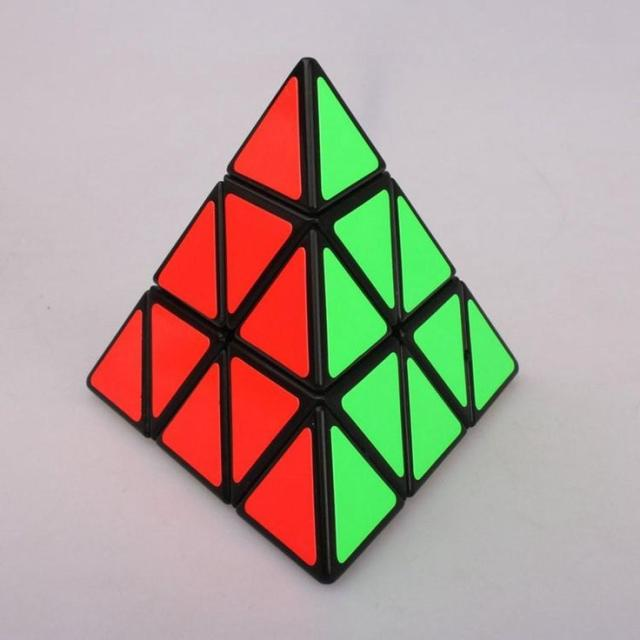Pyraminx: (90, 58, 517, 580)
